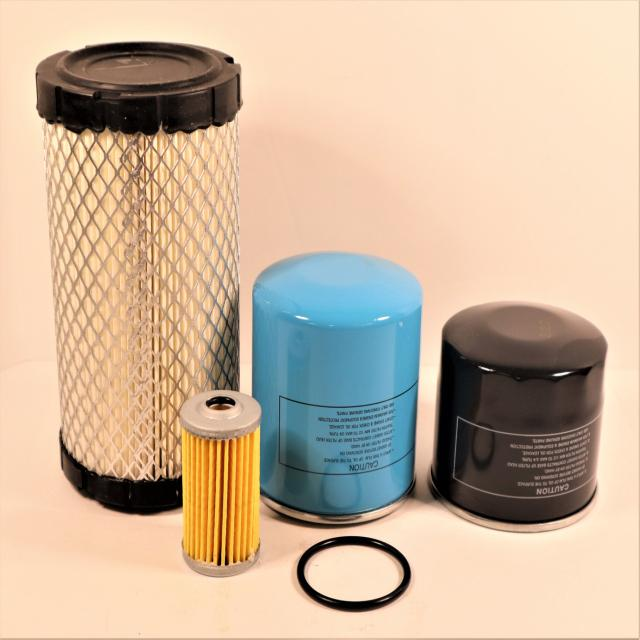oil_filter: (32, 44, 246, 508), (262, 248, 426, 531), (429, 294, 607, 538), (178, 388, 262, 574)
